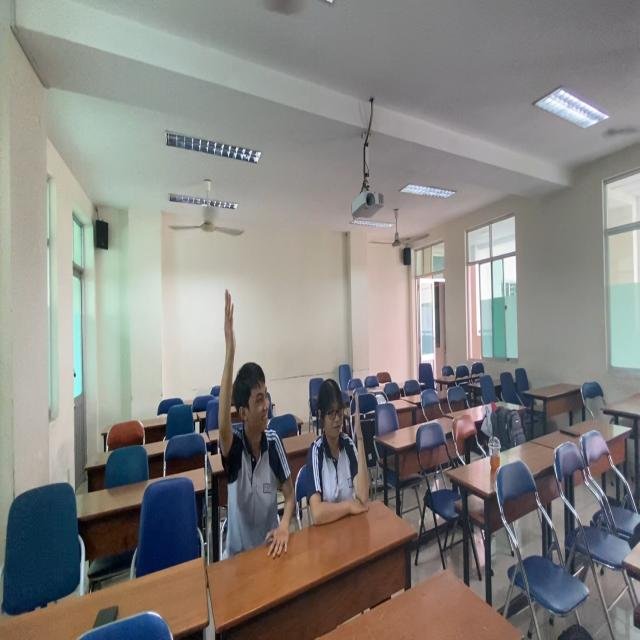raise_hand: (208, 282, 299, 555), (310, 368, 379, 527)
